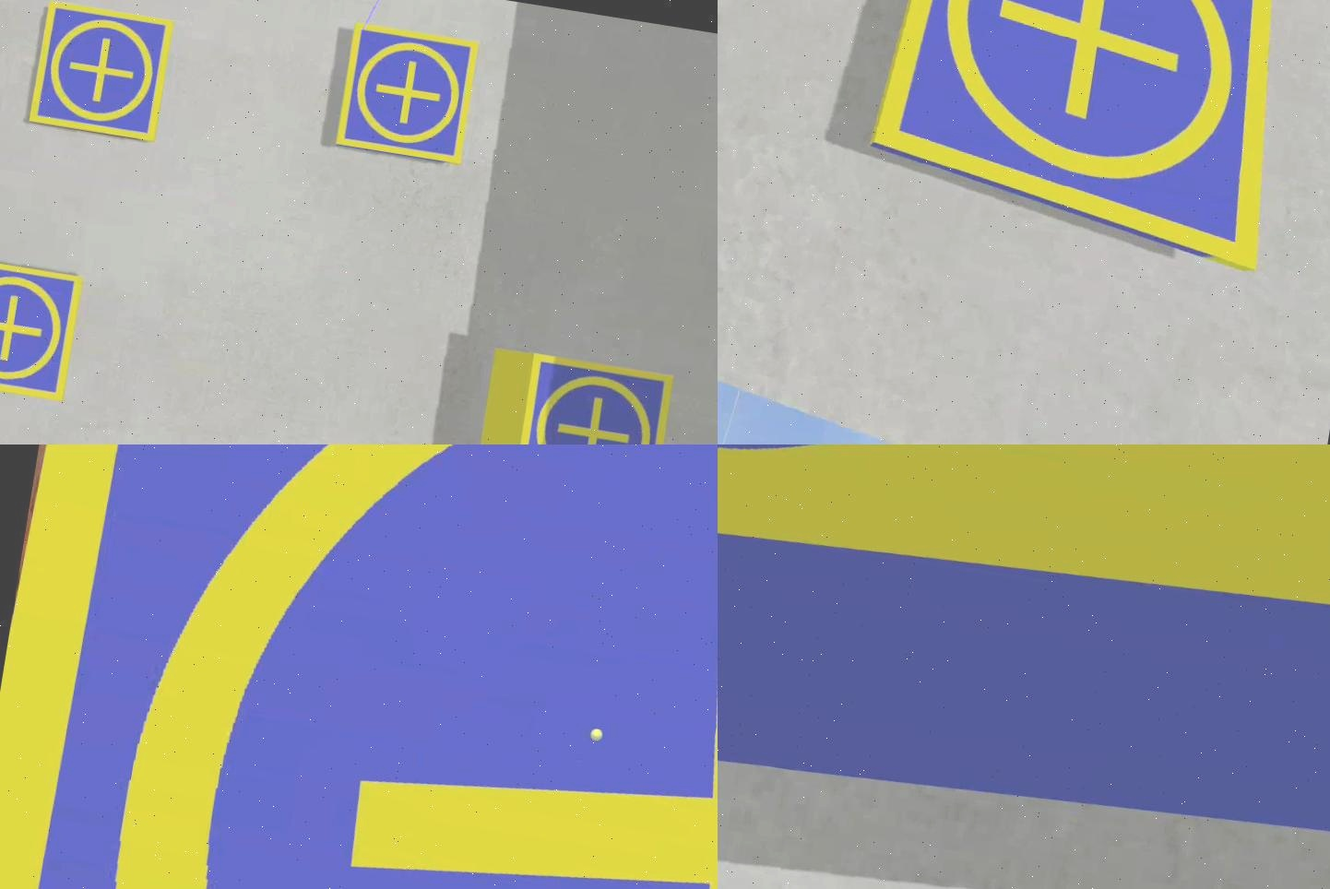large_base: (718, 445, 1330, 889)
small_base: (1, 445, 718, 889), (860, 1, 1322, 277), (336, 21, 482, 167), (30, 4, 174, 146), (510, 350, 678, 445), (1, 256, 88, 402)
